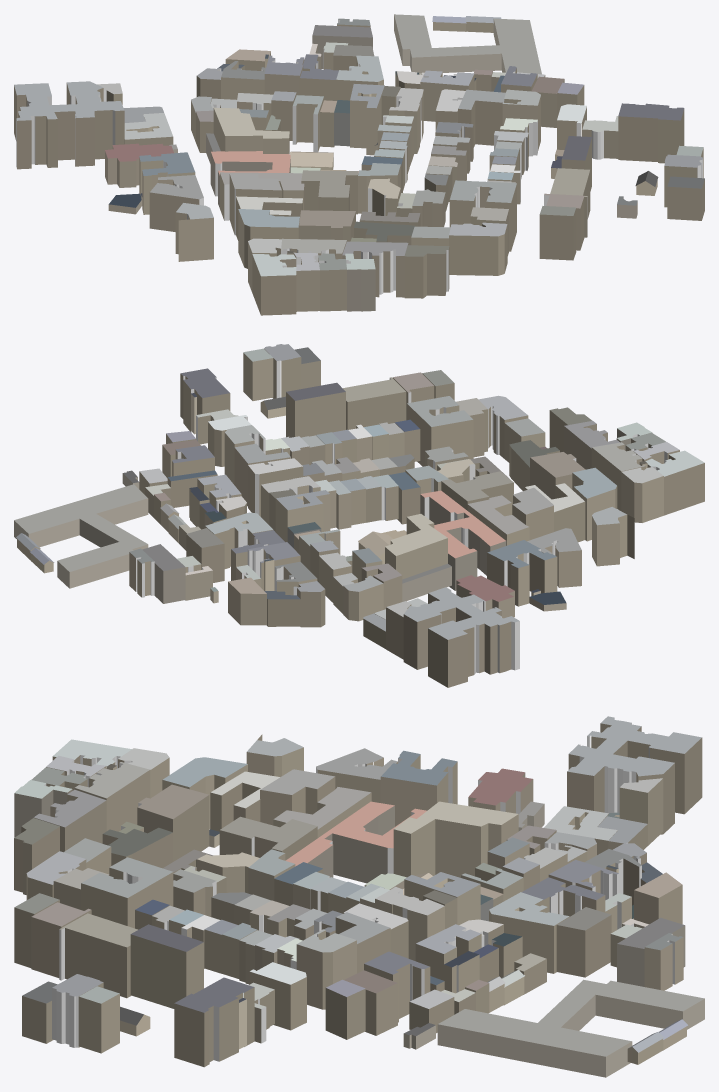
3 views of the same model, one above another, from view 1: azimuth 30°, elevation 25°; view 2: azimuth 150°, elevation 25°; view 3: azimuth 270°, elevation 25° (orthographic). The views are drawn at different scales.
Visible parts, largest first — view 1: tuile; view 2: tuile; view 3: tuile.
Boxes of the visible parts, x1,y1,x2,y2 form: tuile: (14,14,704,315); tuile: (14,344,704,687); tuile: (14,716,704,1077).
Bounding box in the file's own units: 289 × 31.53 × 271.
